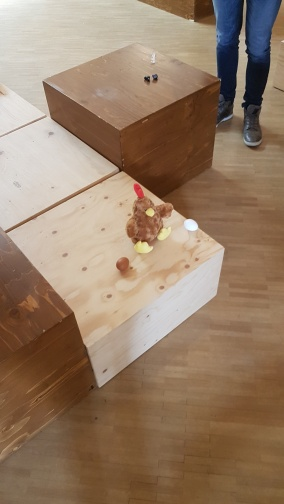chicken: (125, 182, 176, 256)
egg: (181, 217, 202, 232), (114, 255, 131, 271)
